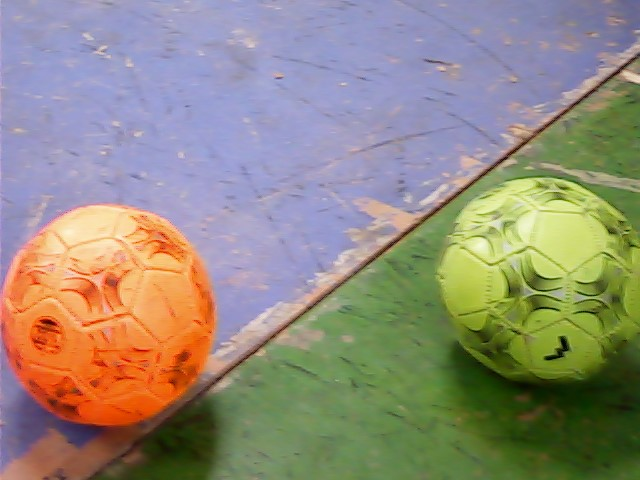Green_ball: (439, 171, 640, 386)
Orange_ball: (1, 204, 239, 429)
